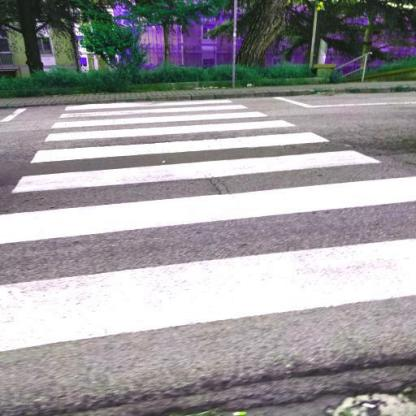crosswalk: (2, 129, 386, 198)
